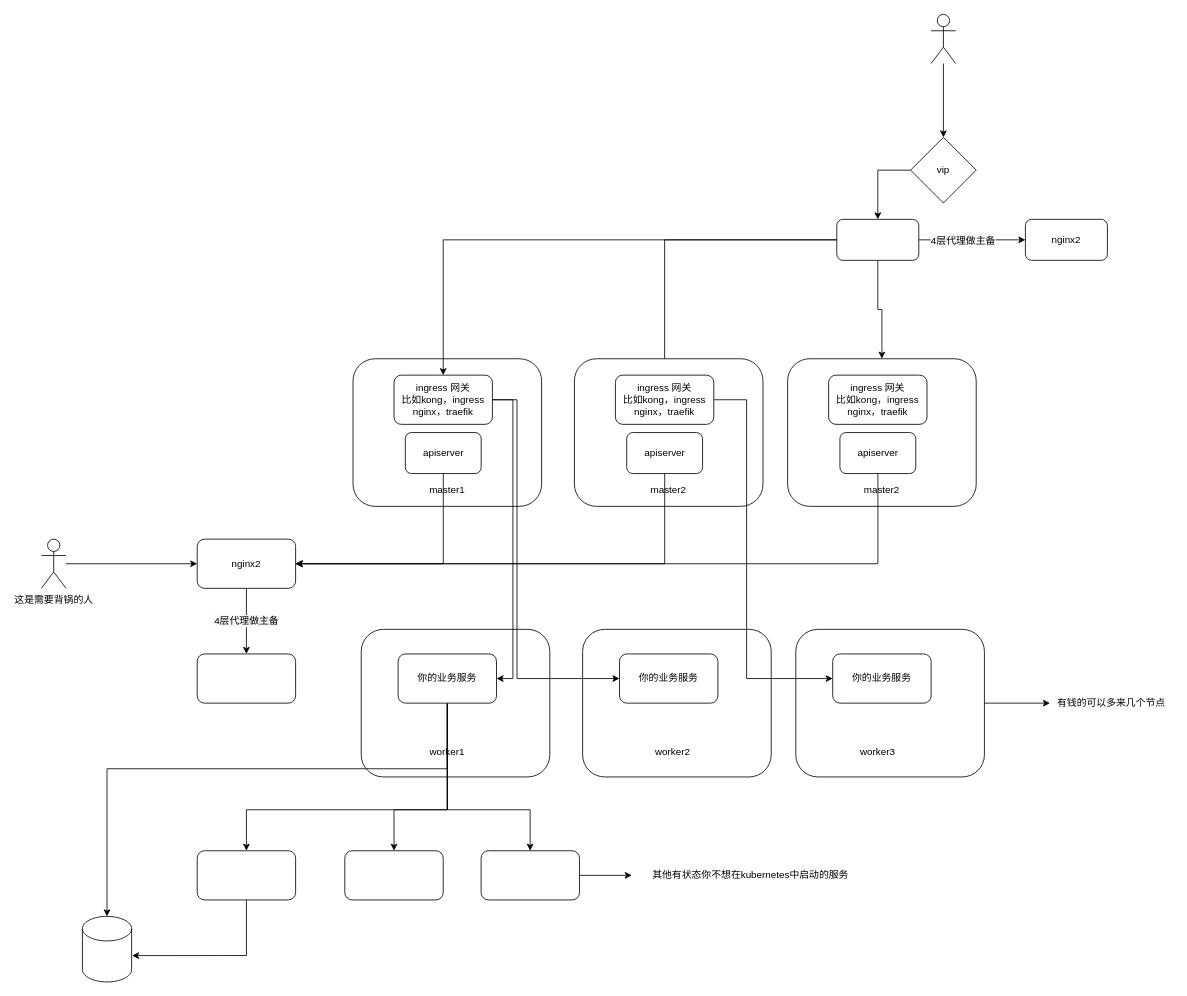
The diagram is 1187 pixels wide and 996 high, and some of its shapes have lost their labels. The centre of each missing label's shape, as x and y in pixels:
"nginx1" belongs at [246,678].
"nginx1 有钱的可以f5" belongs at [877,239].
"redis" belongs at [393,875].
"后端存储" belongs at [107,949].
"数据库 比如mysql" belongs at [246,875].
"消息队列" belongs at [529,875].
"这是你" belongs at [943,39].
